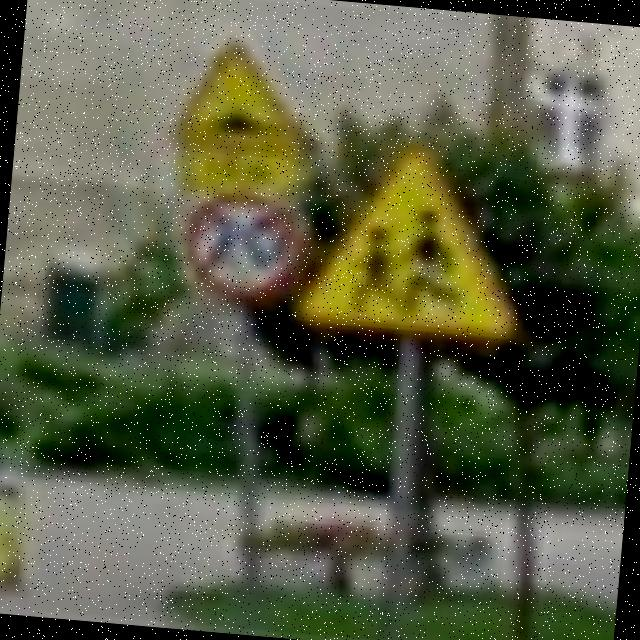Dzieci: (288, 133, 538, 348)
